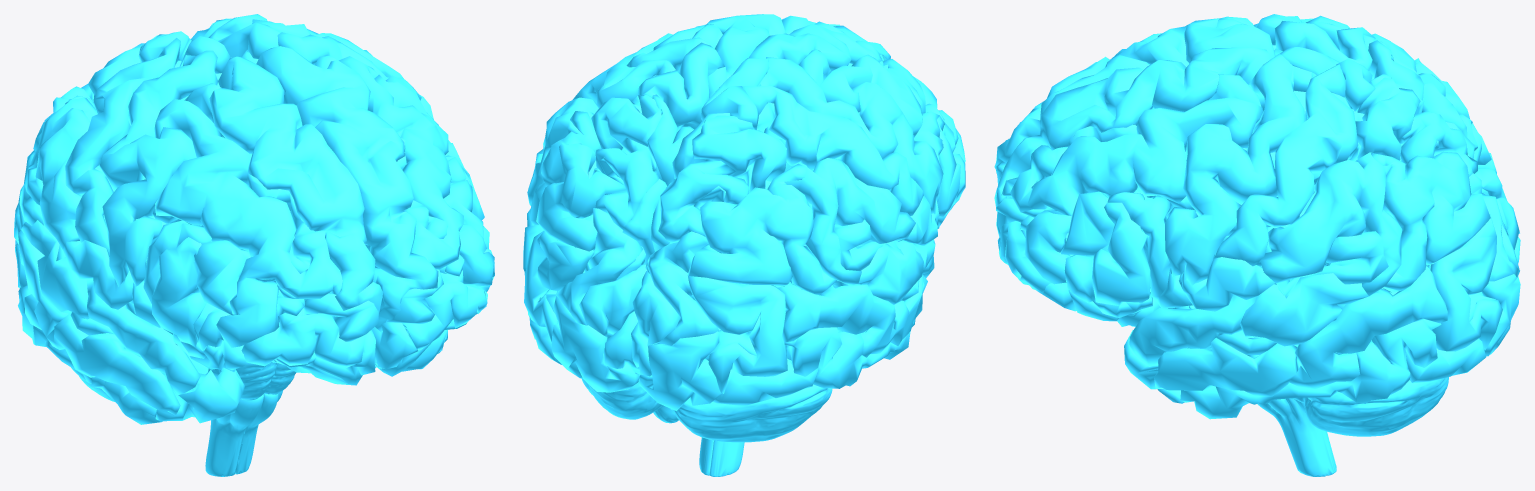
Rendered from brain-atlas.glb.
The picture shows the model from 3 angles, left to right: view 1: azimuth 30°, elevation 25°; view 2: azimuth 150°, elevation 25°; view 3: azimuth 270°, elevation 25°; orthographic projection. The views are drawn at different scales.
Visible parts, largest first — view 1: brain__Middle_frontal_gyrus.r.001, brain__Superior_frontal_gyrus.r.001, brain__Superior_frontal_gyrus.r.002__Superior_frontal_, brain__Precentral_gyrus.r.001, brain__Middle_frontal_gyrus.r.002__Middle_frontal_gyru, brain__Middle_temporal_gyrus.r.001, brain_Superior_temporal_gyrus_(Lateral_part).r.001, brain__Postcentral_gyrus.r.001, brain__Supramarginal_gyrus.r.001, brain_Orbital_gyri_(Frontomarginal_gyrus_and_sulcus*)., brain_Triangular_part_of__inferior_frontal_gyrus.r.001, brain__Inferior_frontal_sulcus.r.001 (+28 smaller); view 2: brain__Angular_gyrus.r.001, brain__Superior_parietal_lobule.r.001, brain__Postcentral_gyrus.r.001, brain__Supramarginal_gyrus.r.001, brain_Lateral_occipital_gyrus_(Middle_occipital_gyrus*, brain__Angular_gyrus.r.002__Angular_gyrus.r.001, brain__Precentral_gyrus.r.001, brain__Middle_temporal_gyrus.r.001, brain__Superior_parietal_lobule.r.002__Superior_pariet, brain_Cerebellum.r.001, brain__Occipital_pole.r.001, brain__Middle_frontal_gyrus.r.001 (+31 smaller); view 3: brain__Middle_frontal_gyrus.r.002__Middle_frontal_gyru, brain__Precentral_gyrus.r.002__Precentral_gyrus.r.001, brain__Middle_temporal_gyrus.r.002__Middle_temporal_gy, brain__Superior_frontal_gyrus.r.002__Superior_frontal_, brain_Superior_temporal_gyrus_(Lateral_part).r.002_Sup, brain__Supramarginal_gyrus.r.002__Supramarginal_gyrus., brain__Postcentral_gyrus.r.002__Postcentral_gyrus.r.00, brain__Angular_gyrus.r.002__Angular_gyrus.r.001, brain__Inferior_temporal_gyrus.r.002__Inferior_tempora, brain__Superior_frontal_gyrus.r.001, brain__Superior_parietal_lobule.r.002__Superior_pariet, brain_Lateral_occipital_gyrus_(Middle_occipital_gyrus*.001 (+25 smaller).
Part boxes in pixels (x1,y1,x2,y2): brain__Middle_frontal_gyrus.r.001: [154, 99, 342, 347]; brain__Superior_frontal_gyrus.r.001: [209, 56, 382, 316]; brain__Superior_frontal_gyrus.r.002__Superior_frontal_: [242, 46, 438, 332]; brain__Precentral_gyrus.r.001: [99, 50, 218, 286]; brain__Middle_frontal_gyrus.r.002__Middle_frontal_gyru: [339, 56, 494, 286]; brain__Middle_temporal_gyrus.r.001: [14, 203, 180, 415]; brain_Superior_temporal_gyrus_(Lateral_part).r.001: [21, 220, 200, 395]; brain__Postcentral_gyrus.r.001: [65, 38, 180, 258]; brain__Supramarginal_gyrus.r.001: [18, 97, 97, 249]; brain_Orbital_gyri_(Frontomarginal_gyrus_and_sulcus*).: [241, 308, 365, 367]; brain_Triangular_part_of__inferior_frontal_gyrus.r.001: [152, 237, 206, 347]; brain__Inferior_frontal_sulcus.r.001: [153, 206, 251, 315]; brain__Angular_gyrus.r.001: [687, 163, 836, 294]; brain__Superior_parietal_lobule.r.001: [658, 115, 786, 243]; brain__Postcentral_gyrus.r.001: [742, 86, 923, 215]; brain__Supramarginal_gyrus.r.001: [784, 158, 915, 285]; brain_Lateral_occipital_gyrus_(Middle_occipital_gyrus*: [688, 275, 787, 393]; brain__Angular_gyrus.r.002__Angular_gyrus.r.001: [530, 111, 626, 251]; brain__Precentral_gyrus.r.001: [758, 57, 943, 214]; brain__Middle_temporal_gyrus.r.001: [775, 274, 927, 357]; brain__Superior_parietal_lobule.r.002__Superior_pariet: [591, 95, 662, 229]; brain_Cerebellum.r.001: [673, 384, 832, 442]; brain__Occipital_pole.r.001: [639, 331, 722, 410]; brain__Middle_frontal_gyrus.r.001: [819, 54, 965, 162]; brain__Middle_frontal_gyrus.r.002__Middle_frontal_gyru: [1001, 97, 1262, 284]; brain__Precentral_gyrus.r.002__Precentral_gyrus.r.001: [1165, 53, 1316, 285]; brain__Middle_temporal_gyrus.r.002__Middle_temporal_gy: [1154, 266, 1447, 396]; brain__Superior_frontal_gyrus.r.002__Superior_frontal_: [994, 47, 1271, 207]; brain_Superior_temporal_gyrus_(Lateral_part).r.002_Sup: [1129, 273, 1368, 366]; brain__Supramarginal_gyrus.r.002__Supramarginal_gyrus.: [1260, 152, 1402, 296]; brain__Postcentral_gyrus.r.002__Postcentral_gyrus.r.00: [1214, 64, 1358, 266]; brain__Angular_gyrus.r.002__Angular_gyrus.r.001: [1371, 151, 1490, 292]; brain__Inferior_temporal_gyrus.r.002__Inferior_tempora: [1180, 319, 1441, 419]; brain__Superior_frontal_gyrus.r.001: [994, 18, 1282, 185]; brain__Superior_parietal_lobule.r.002__Superior_pariet: [1355, 77, 1477, 176]; brain_Lateral_occipital_gyrus_(Middle_occipital_gyrus*.001: [1430, 214, 1502, 351].
Bounding box in the file's own units: 2.62 × 2.91 × 3.2.
